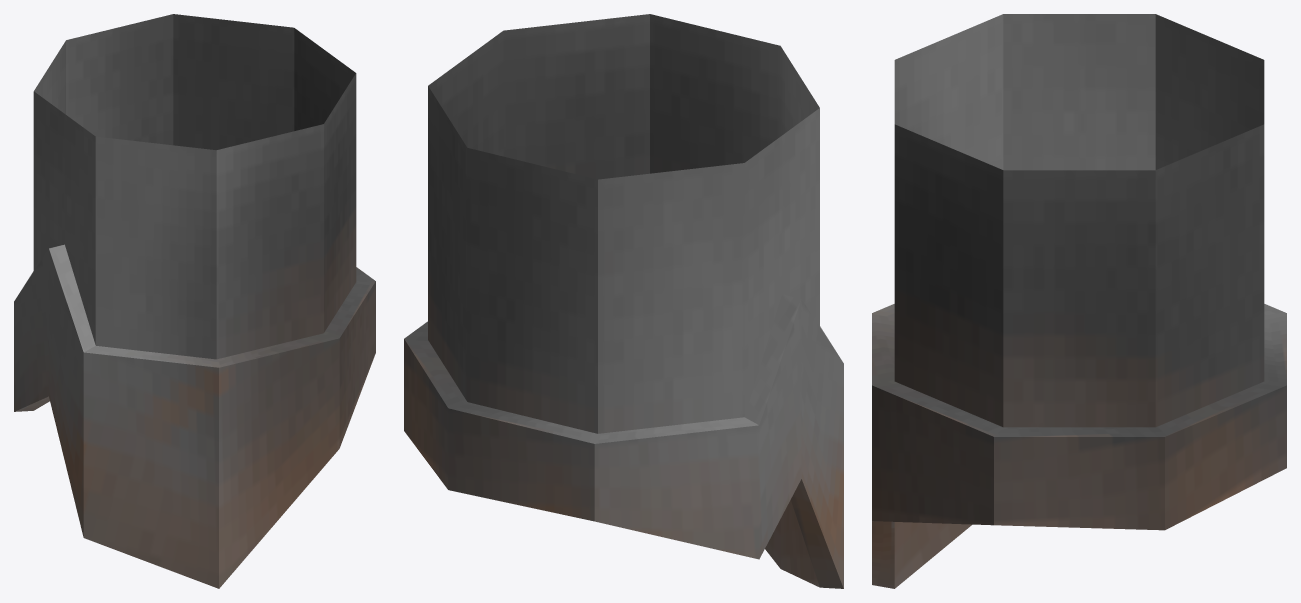
Rendered from  truba dush.fbx.
3 views of the same model, side by side, from view 1: azimuth 30°, elevation 25°; view 2: azimuth 150°, elevation 25°; view 3: azimuth 270°, elevation 25° (orthographic). The views are drawn at different scales.
Visible parts, largest first — view 1: Cube.015; view 2: Cube.015; view 3: Cube.015.
Boxes of the visible parts, <box> form: Cube.015: <box>14,14,375,588</box>; Cube.015: <box>404,14,843,588</box>; Cube.015: <box>872,14,1286,588</box>.
Size of the model in its own units: 99.16 by 140 by 99.16.
